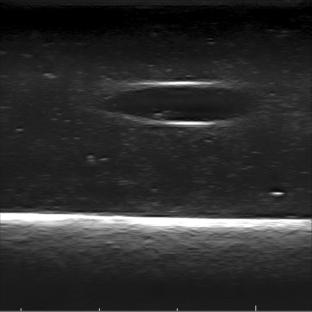vessel: (107, 80, 255, 126)
